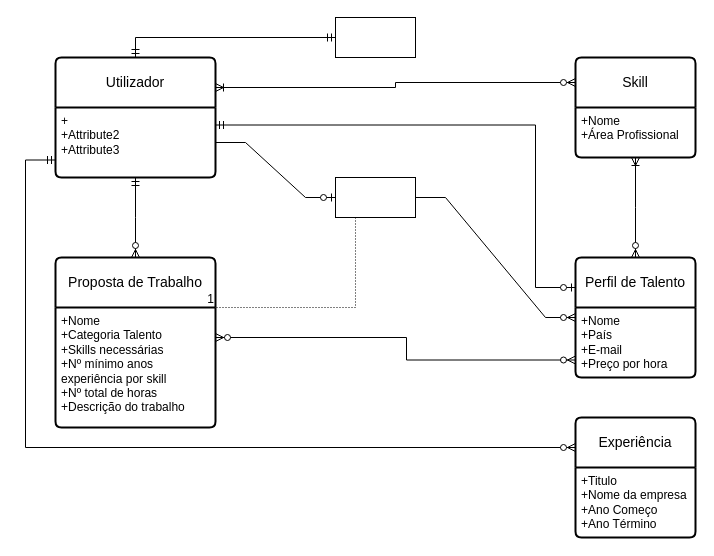
This 714x556 diagram has some shape labels left out. Each missing label, with the centre of its shape:
Cliente: the point at 375,197
Conta: the point at 375,37
